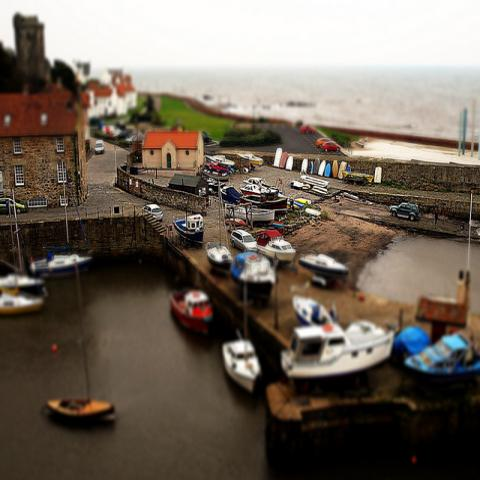car: (389, 200, 422, 222), (229, 229, 257, 253), (0, 196, 27, 214), (141, 204, 163, 222), (94, 139, 106, 156), (300, 123, 316, 135), (322, 142, 341, 152), (316, 138, 330, 148), (115, 132, 129, 141)
